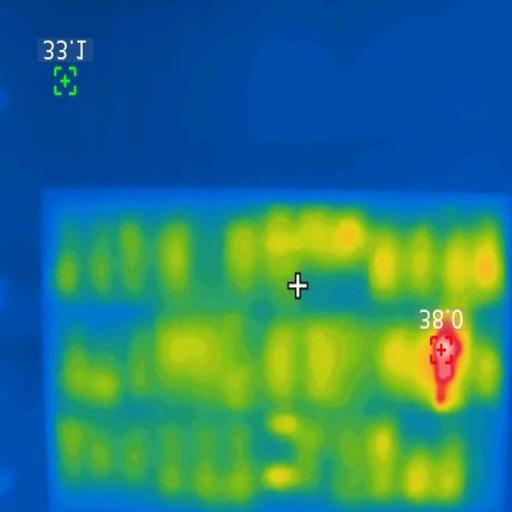hotspot: (432, 327, 456, 400)
